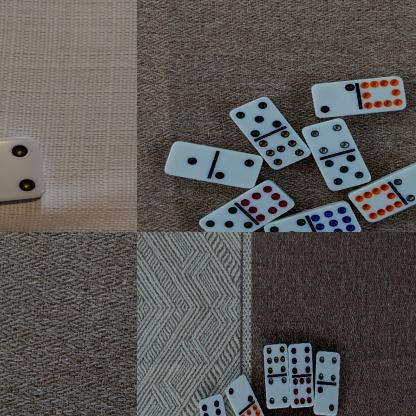pip-1: (165, 142, 215, 179)
pip-10: (350, 183, 404, 222), (360, 75, 407, 110), (240, 401, 268, 416)
pip-2: (212, 150, 263, 188), (312, 81, 359, 118), (226, 372, 255, 412), (314, 383, 340, 415)
pip-4: (0, 136, 45, 202), (304, 116, 350, 154), (393, 161, 416, 201), (266, 374, 290, 408), (316, 350, 340, 383)
pip-5: (231, 96, 283, 136), (325, 151, 372, 189), (200, 206, 254, 232), (264, 217, 315, 232)
pip-6: (289, 343, 313, 374), (199, 393, 225, 416)
pip-7: (260, 130, 310, 170), (264, 342, 289, 376)
pip-8: (242, 180, 296, 221), (291, 374, 315, 409)
pip-9: (312, 200, 362, 232)
